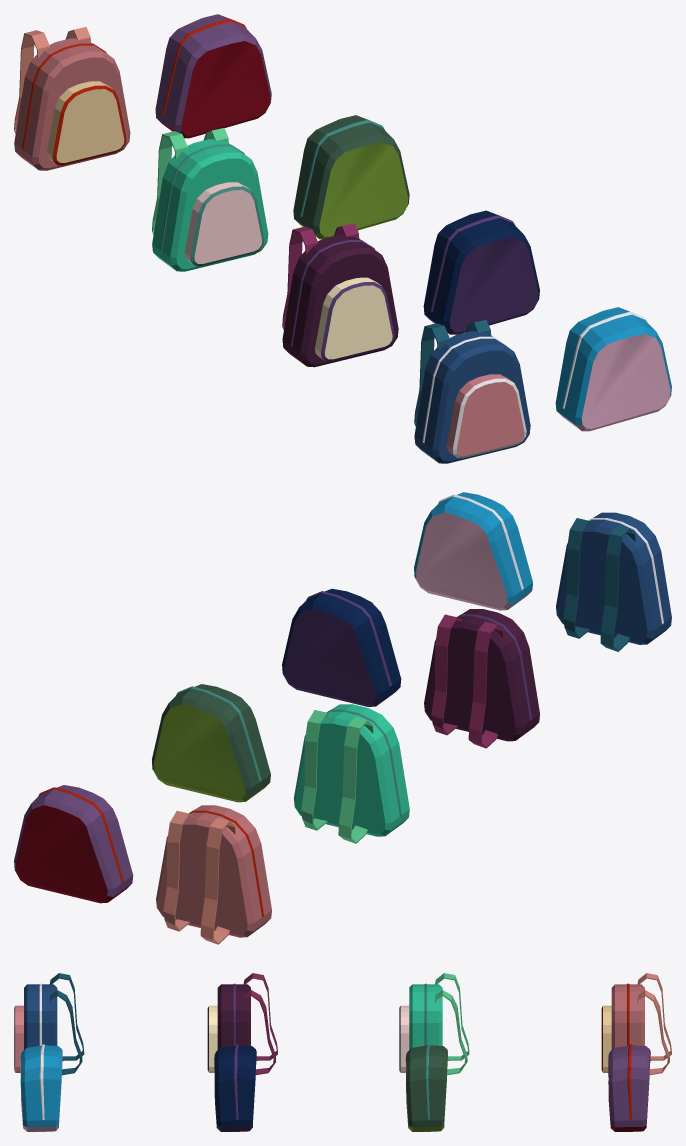
The model's file is Bags_Kebabs.fbx.
The picture shows the model from 3 angles, top to bottom: view 1: azimuth 30°, elevation 25°; view 2: azimuth 150°, elevation 25°; view 3: azimuth 270°, elevation 25°; orthographic projection. The views are drawn at different scales.
Parts seen in each view (by area): view 1: Bag_4, Bag_2, Bag_1, Bag_3, Bag_Kebab_4, Bag_Kebab_1, Bag_Kebab_3, Bag_Kebab_2; view 2: Bag_4, Bag_3, Bag_2, Bag_1, Bag_Kebab_4, Bag_Kebab_1, Bag_Kebab_3, Bag_Kebab_2; view 3: Bag_3, Bag_1, Bag_2, Bag_4, Bag_Kebab_3, Bag_Kebab_1, Bag_Kebab_4, Bag_Kebab_2.
Part boxes in pixels (x1,y1,x2,y2): Bag_4: [414, 320, 530, 463]; Bag_2: [152, 128, 268, 271]; Bag_1: [14, 27, 130, 170]; Bag_3: [282, 223, 398, 367]; Bag_Kebab_4: [555, 307, 671, 431]; Bag_Kebab_1: [155, 14, 271, 138]; Bag_Kebab_3: [423, 210, 539, 334]; Bag_Kebab_2: [293, 115, 409, 239]; Bag_4: [556, 512, 671, 651]; Bag_3: [424, 609, 539, 748]; Bag_2: [293, 704, 409, 843]; Bag_1: [156, 805, 271, 944]; Bag_Kebab_4: [414, 492, 532, 610]; Bag_Kebab_1: [14, 785, 133, 903]; Bag_Kebab_3: [282, 588, 401, 706]; Bag_Kebab_2: [152, 684, 270, 802]; Bag_3: [207, 973, 277, 1075]; Bag_1: [601, 973, 671, 1075]; Bag_2: [399, 973, 469, 1075]; Bag_4: [14, 973, 84, 1075]; Bag_Kebab_3: [214, 1044, 256, 1131]; Bag_Kebab_1: [608, 1044, 650, 1131]; Bag_Kebab_4: [20, 1044, 62, 1131]; Bag_Kebab_2: [405, 1044, 447, 1131].
Bounding box in the file's own units: 115 × 53.96 × 370.
Materials: 1 (1 with a texture image).
